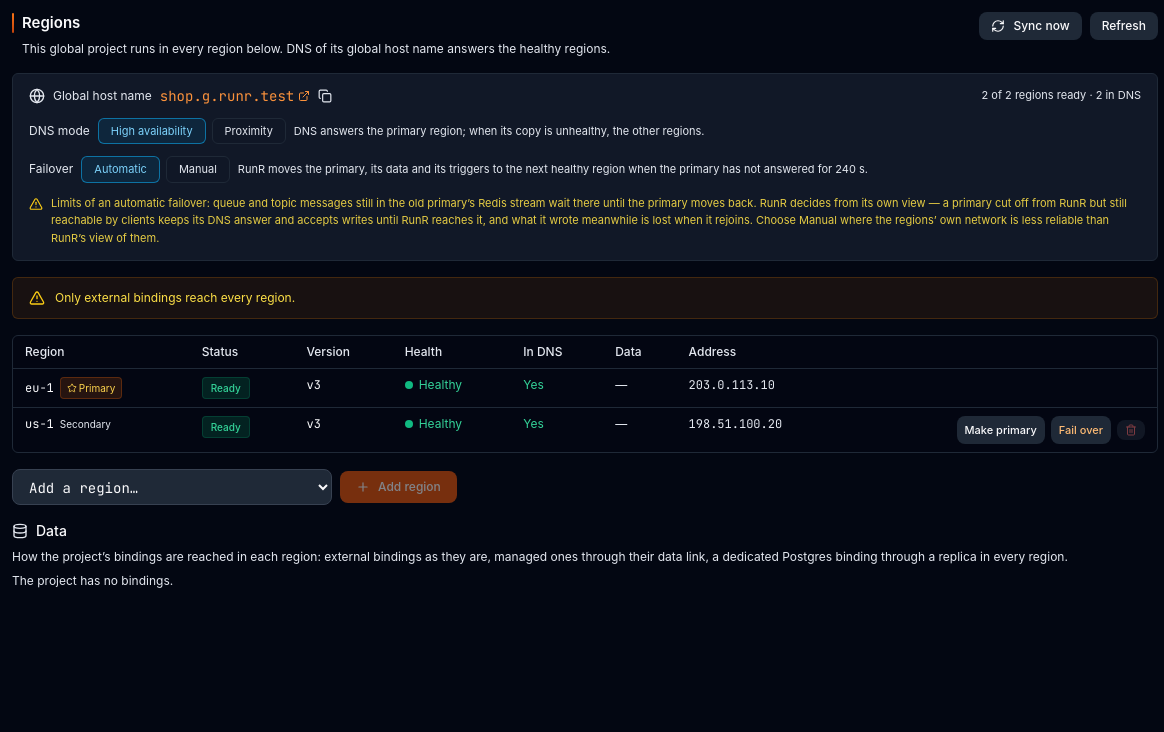
Test: Project → Regions: failover, triggers and data (phase 2) › shows the failover setting and changes it
Expected: the text with test id "global-failover-hint" shows "240 s", [238,162,868,176]
Click the button "Manual".
click(198, 169)  # box [166,156,230,182]
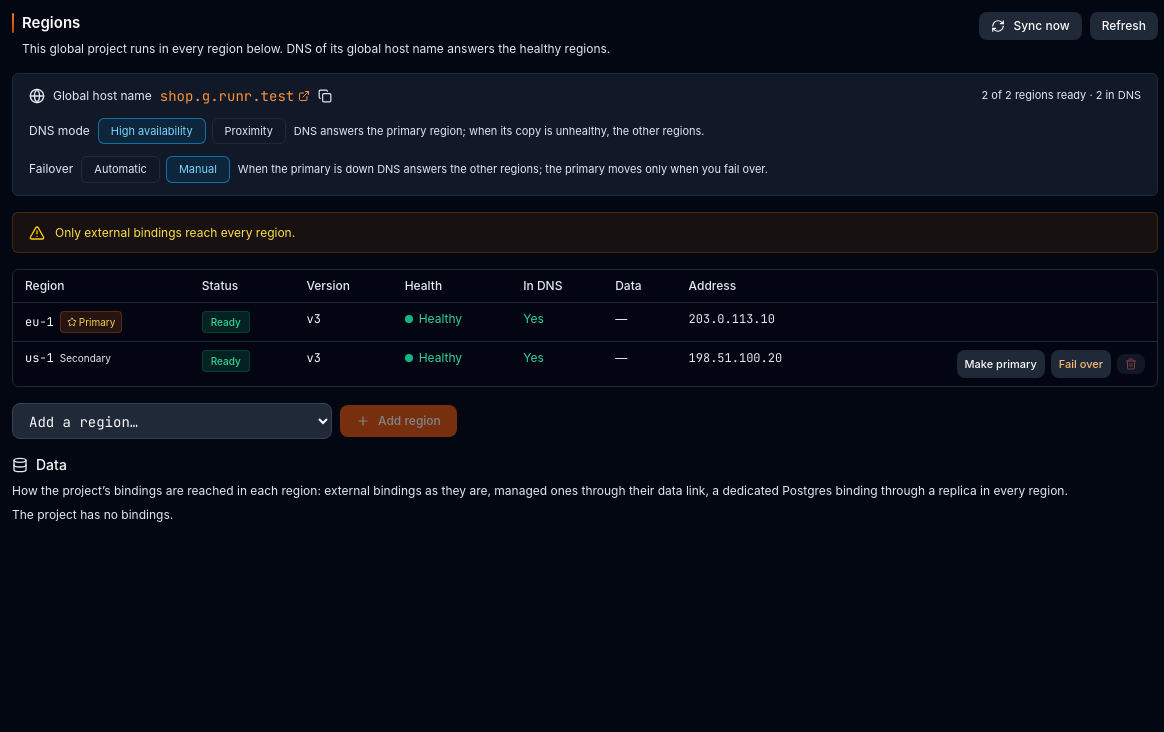
Now the text with test id "global-failover-hint" shows "only when you fail over", box [238,162,768,176]
